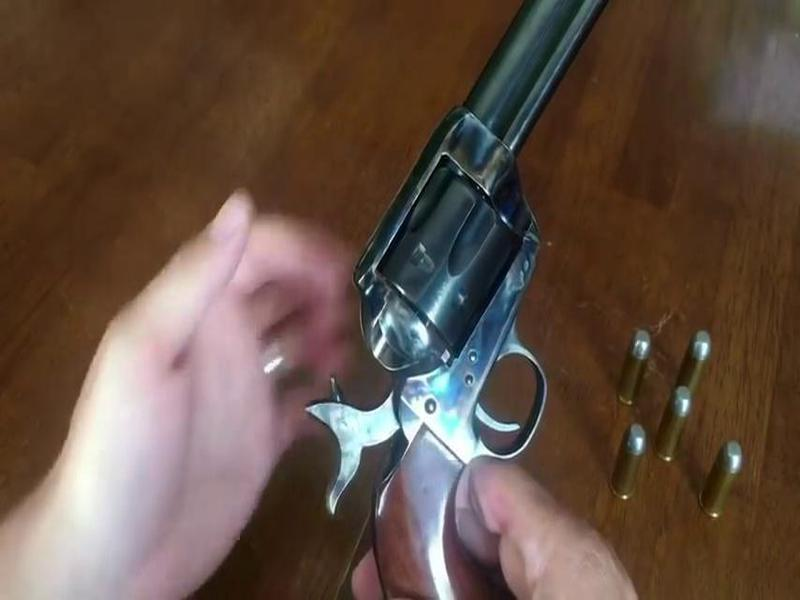Revolver: (342, 3, 585, 533)
